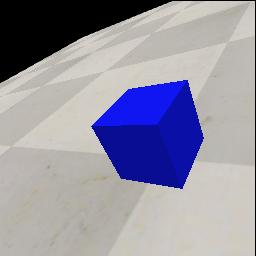box: (91, 79, 204, 189)
